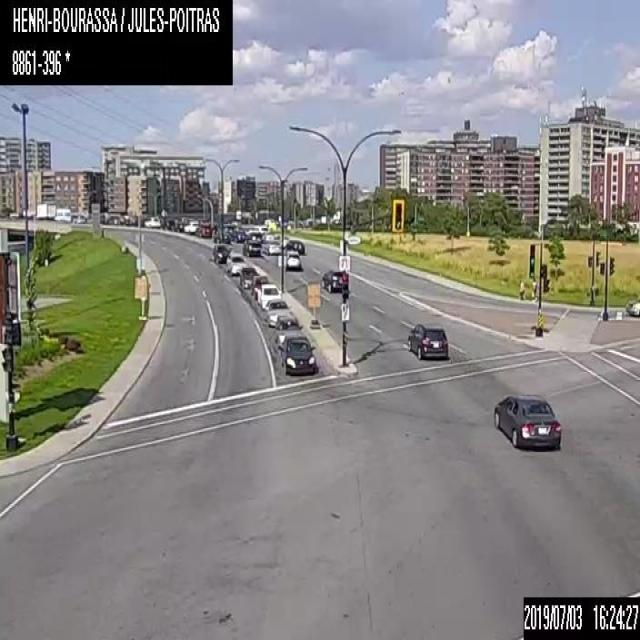pedestrian: (530, 276, 537, 299), (517, 276, 524, 299)
vehicle: (492, 394, 561, 448), (279, 332, 316, 375), (406, 322, 448, 358), (274, 314, 302, 345), (264, 297, 291, 326), (256, 282, 282, 309), (321, 270, 348, 292), (237, 265, 259, 288), (226, 253, 247, 276), (250, 275, 268, 298), (212, 243, 230, 262), (260, 238, 280, 254), (284, 250, 300, 270), (242, 239, 260, 256), (36, 202, 55, 218), (625, 295, 639, 316), (285, 239, 304, 254), (195, 222, 211, 236), (231, 229, 247, 242), (182, 220, 198, 233), (246, 230, 263, 242), (53, 208, 70, 220), (144, 216, 160, 227), (171, 220, 183, 231)
